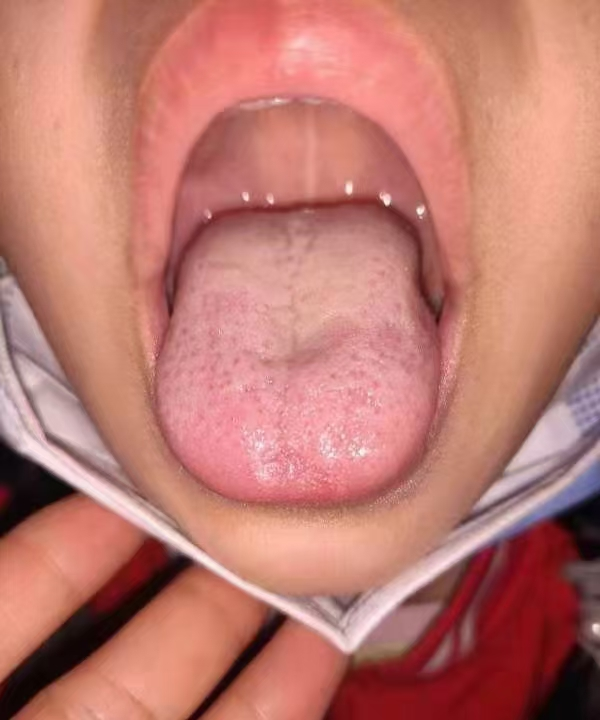hongdianshe: (173, 326, 256, 402)
huangtaishe: (158, 202, 440, 501)
piweiao: (230, 309, 347, 382)
